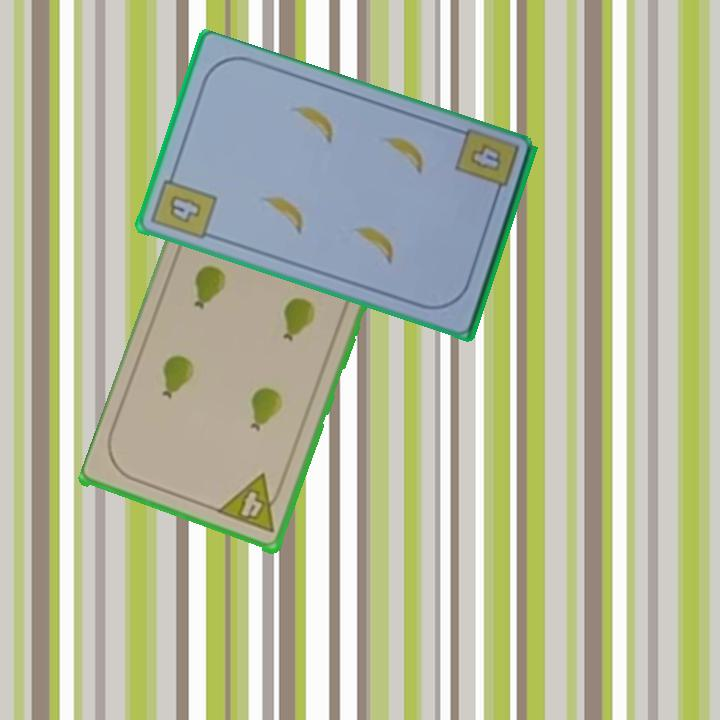4b: (148, 167, 220, 243), (466, 140, 504, 175)
4p: (215, 471, 287, 536)
